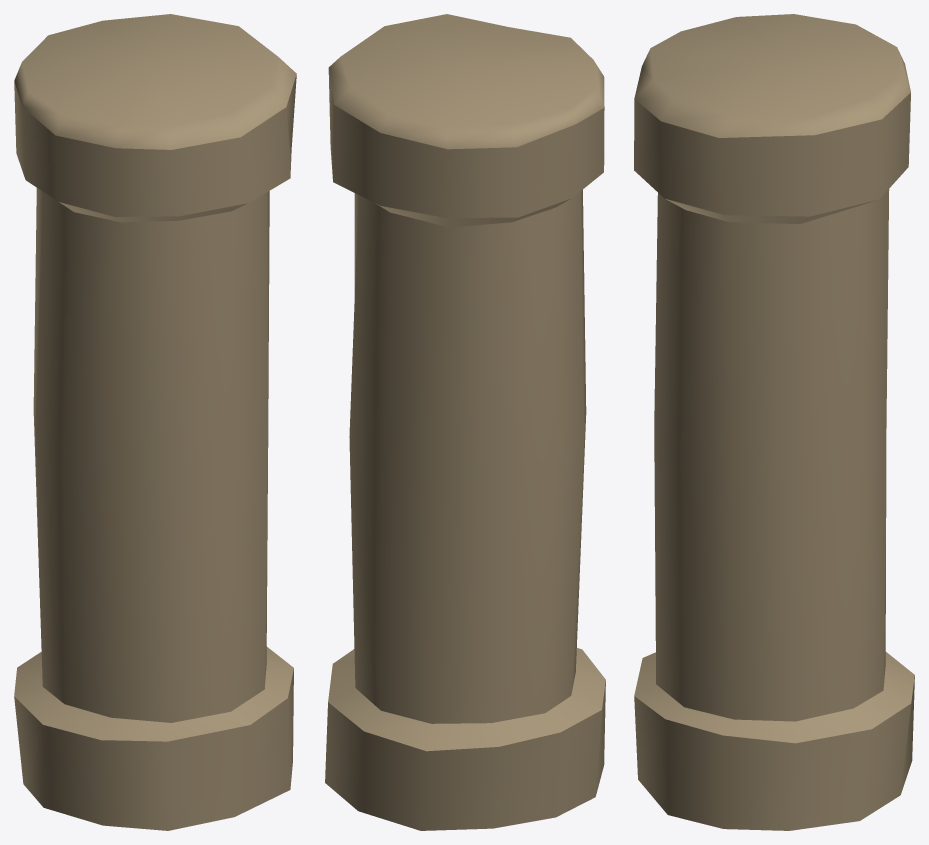
File: Struct_Sm_ColumnRound_1_A.fbx
3 renders of one model, left to right at view 1: azimuth 30°, elevation 25°; view 2: azimuth 150°, elevation 25°; view 3: azimuth 270°, elevation 25°, orthographic.
Visible parts, largest first — view 1: Column_Round_1_low:Mesh; view 2: Column_Round_1_low:Mesh; view 3: Column_Round_1_low:Mesh.
Part boxes in pixels (x1,y1,x2,y2): Column_Round_1_low:Mesh: (14,14,296,830); Column_Round_1_low:Mesh: (325,14,605,830); Column_Round_1_low:Mesh: (634,14,914,830).
Size of the model in its own units: 1.09 by 3.02 by 1.08.
